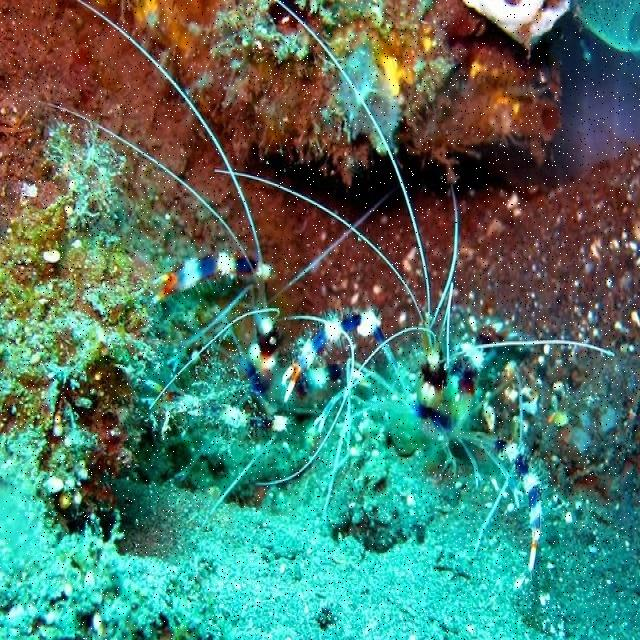reefs: (41, 1, 615, 572)
